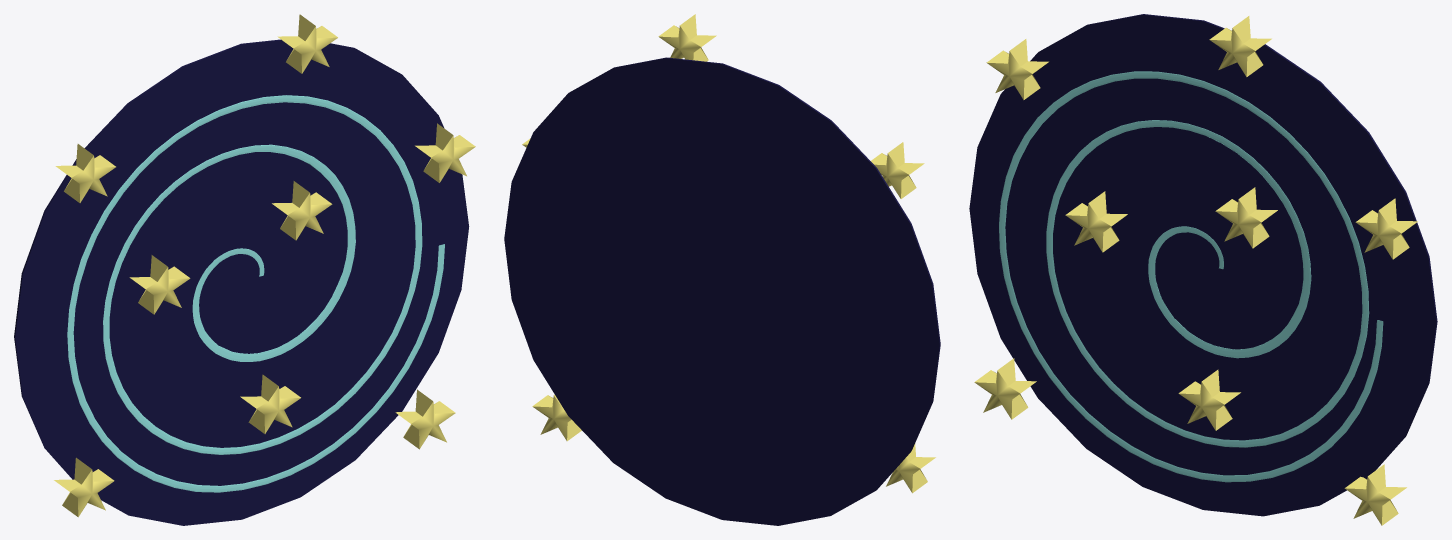
Rendered from galaxy.gltf.
3 renders of one model, left to right at view 1: azimuth 30°, elevation 25°; view 2: azimuth 150°, elevation 25°; view 3: azimuth 330°, elevation 25°, orthographic. The views are drawn at different scales.
Parts seen in each view (by area): view 1: circle.001, swirl, Star_3.005, Star_3.006, Star_3.008, Star_3.003, Star_3.004, Star_3.007, Star_3.009, Star_3.010; view 2: circle.001, Star_3.010, Star_3.007, Star_3.008, Star_3.006; view 3: circle.001, swirl, Star_3.007, Star_3.010, Star_3.004, Star_3.005, Star_3.006, Star_3.009, Star_3.008, Star_3.003.
Boxes of the visible parts, x1=… form: circle.001: x1=14, y1=39, x2=469, y2=525; swirl: x1=67, y1=95, x2=444, y2=492; Star_3.005: x1=240, y1=374, x2=300, y2=433; Star_3.006: x1=54, y1=457, x2=114, y2=517; Star_3.008: x1=395, y1=389, x2=455, y2=449; Star_3.003: x1=415, y1=123, x2=475, y2=182; Star_3.004: x1=129, y1=255, x2=190, y2=314; Star_3.007: x1=55, y1=144, x2=115, y2=202; Star_3.009: x1=272, y1=181, x2=332, y2=240; Star_3.010: x1=277, y1=14, x2=337, y2=73; circle.001: x1=504, y1=57, x2=940, y2=525; Star_3.010: x1=658, y1=14, x2=716, y2=61; Star_3.007: x1=871, y1=142, x2=924, y2=198; Star_3.008: x1=532, y1=394, x2=581, y2=441; Star_3.006: x1=886, y1=443, x2=935, y2=493; circle.001: x1=969, y1=14, x2=1437, y2=516; swirl: x1=999, y1=71, x2=1383, y2=482; Star_3.007: x1=986, y1=39, x2=1048, y2=99; Star_3.010: x1=1209, y1=16, x2=1271, y2=76; Star_3.004: x1=1065, y1=191, x2=1127, y2=252; Star_3.005: x1=1178, y1=369, x2=1240, y2=430; Star_3.006: x1=974, y1=358, x2=1036, y2=419; Star_3.009: x1=1215, y1=187, x2=1277, y2=248; Star_3.008: x1=1344, y1=464, x2=1406, y2=525; Star_3.003: x1=1355, y1=198, x2=1417, y2=259.
Size of the model in its own units: 2.4 by 2.51 by 0.239.
